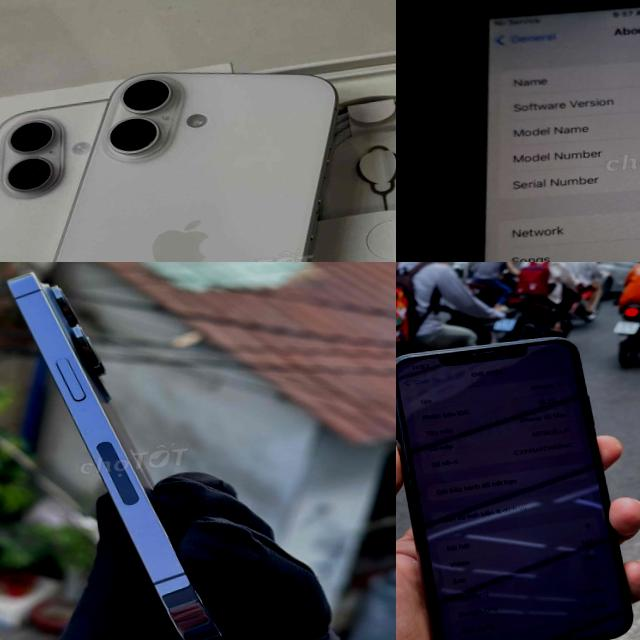screen_defect: (402, 422, 486, 464), (484, 411, 534, 440), (417, 502, 458, 536), (534, 391, 584, 418), (458, 494, 498, 526), (433, 578, 469, 610), (468, 572, 496, 605), (544, 542, 575, 570), (526, 474, 553, 503), (494, 568, 525, 592), (523, 556, 548, 584), (498, 484, 526, 508), (568, 618, 598, 640), (552, 467, 577, 493), (572, 534, 597, 558), (574, 460, 602, 481), (598, 610, 628, 629), (596, 528, 617, 549), (525, 630, 569, 640)
